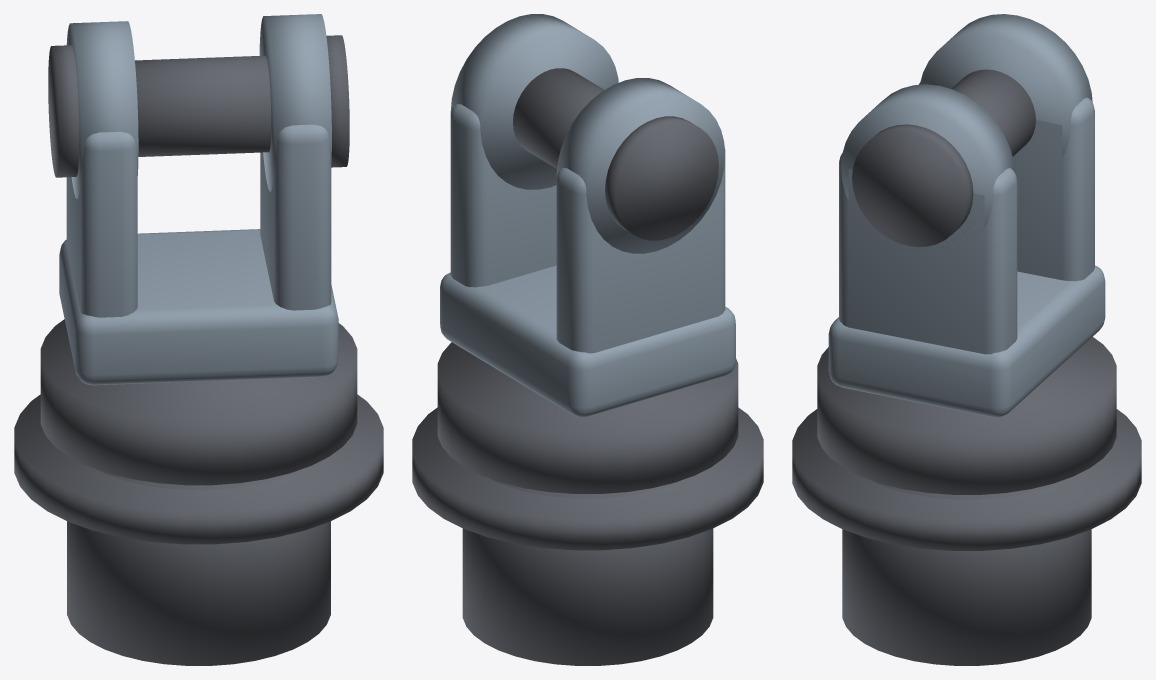
Rendered from CCTV_Mount.fbx.
3 renders of one model, left to right at view 1: azimuth 30°, elevation 25°; view 2: azimuth 150°, elevation 25°; view 3: azimuth 270°, elevation 25°, orthographic. The views are drawn at different scales.
Visible parts, largest first — view 1: Swivel_Base_Cyl, Swivel_Collar, Fork_Base, Swivel_Mount_Flange, Hinge_Pin, Fork_R, Fork_L, Fork_Cap_R, Fork_Cap_L, Pin_Bolt_L, Pin_Bolt_R; view 2: Swivel_Base_Cyl, Swivel_Collar, Fork_Base, Swivel_Mount_Flange, Fork_L, Fork_Cap_R, Fork_R, Pin_Bolt_L, Fork_Cap_L, Hinge_Pin; view 3: Swivel_Base_Cyl, Swivel_Collar, Fork_R, Swivel_Mount_Flange, Fork_Base, Fork_L, Pin_Bolt_R, Fork_Cap_L, Fork_Cap_R, Hinge_Pin.
Part boxes in pixels (x1=…): Swivel_Base_Cyl: x1=67, y1=469, x2=330, y2=665; Swivel_Collar: x1=40, y1=319, x2=357, y2=485; Fork_Base: x1=59, y1=229, x2=338, y2=385; Swivel_Mount_Flange: x1=14, y1=394, x2=383, y2=544; Hinge_Pin: x1=135, y1=55, x2=271, y2=156; Fork_R: x1=260, y1=124, x2=331, y2=310; Fork_L: x1=66, y1=131, x2=137, y2=317; Fork_Cap_R: x1=259, y1=14, x2=331, y2=191; Fork_Cap_L: x1=66, y1=21, x2=138, y2=198; Pin_Bolt_L: x1=48, y1=45, x2=79, y2=177; Pin_Bolt_R: x1=326, y1=35, x2=349, y2=167; Swivel_Base_Cyl: x1=462, y1=479, x2=713, y2=665; Swivel_Collar: x1=437, y1=342, x2=738, y2=493; Fork_Base: x1=440, y1=265, x2=735, y2=417; Swivel_Mount_Flange: x1=412, y1=407, x2=763, y2=550; Fork_L: x1=556, y1=148, x2=725, y2=353; Fork_Cap_R: x1=450, y1=14, x2=618, y2=189; Fork_R: x1=450, y1=103, x2=556, y2=287; Pin_Bolt_L: x1=605, y1=116, x2=718, y2=240; Fork_Cap_L: x1=556, y1=78, x2=725, y2=253; Hinge_Pin: x1=513, y1=68, x2=604, y2=168; Swivel_Base_Cyl: x1=842, y1=480, x2=1091, y2=665; Swivel_Collar: x1=817, y1=337, x2=1116, y2=494; Fork_R: x1=839, y1=153, x2=1017, y2=354; Swivel_Mount_Flange: x1=792, y1=409, x2=1141, y2=550; Fork_Base: x1=828, y1=265, x2=1105, y2=417; Fork_L: x1=918, y1=82, x2=1094, y2=281; Pin_Bolt_R: x1=852, y1=124, x2=973, y2=247; Fork_Cap_L: x1=919, y1=14, x2=1092, y2=156; Fork_Cap_R: x1=841, y1=84, x2=1014, y2=249; Hinge_Pin: x1=951, y1=69, x2=1035, y2=156.
Size of the model in its own units: 41.84 by 73 by 41.84.
